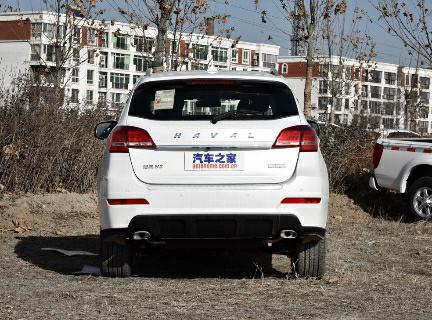哈弗-H2: (91, 71, 336, 282)
